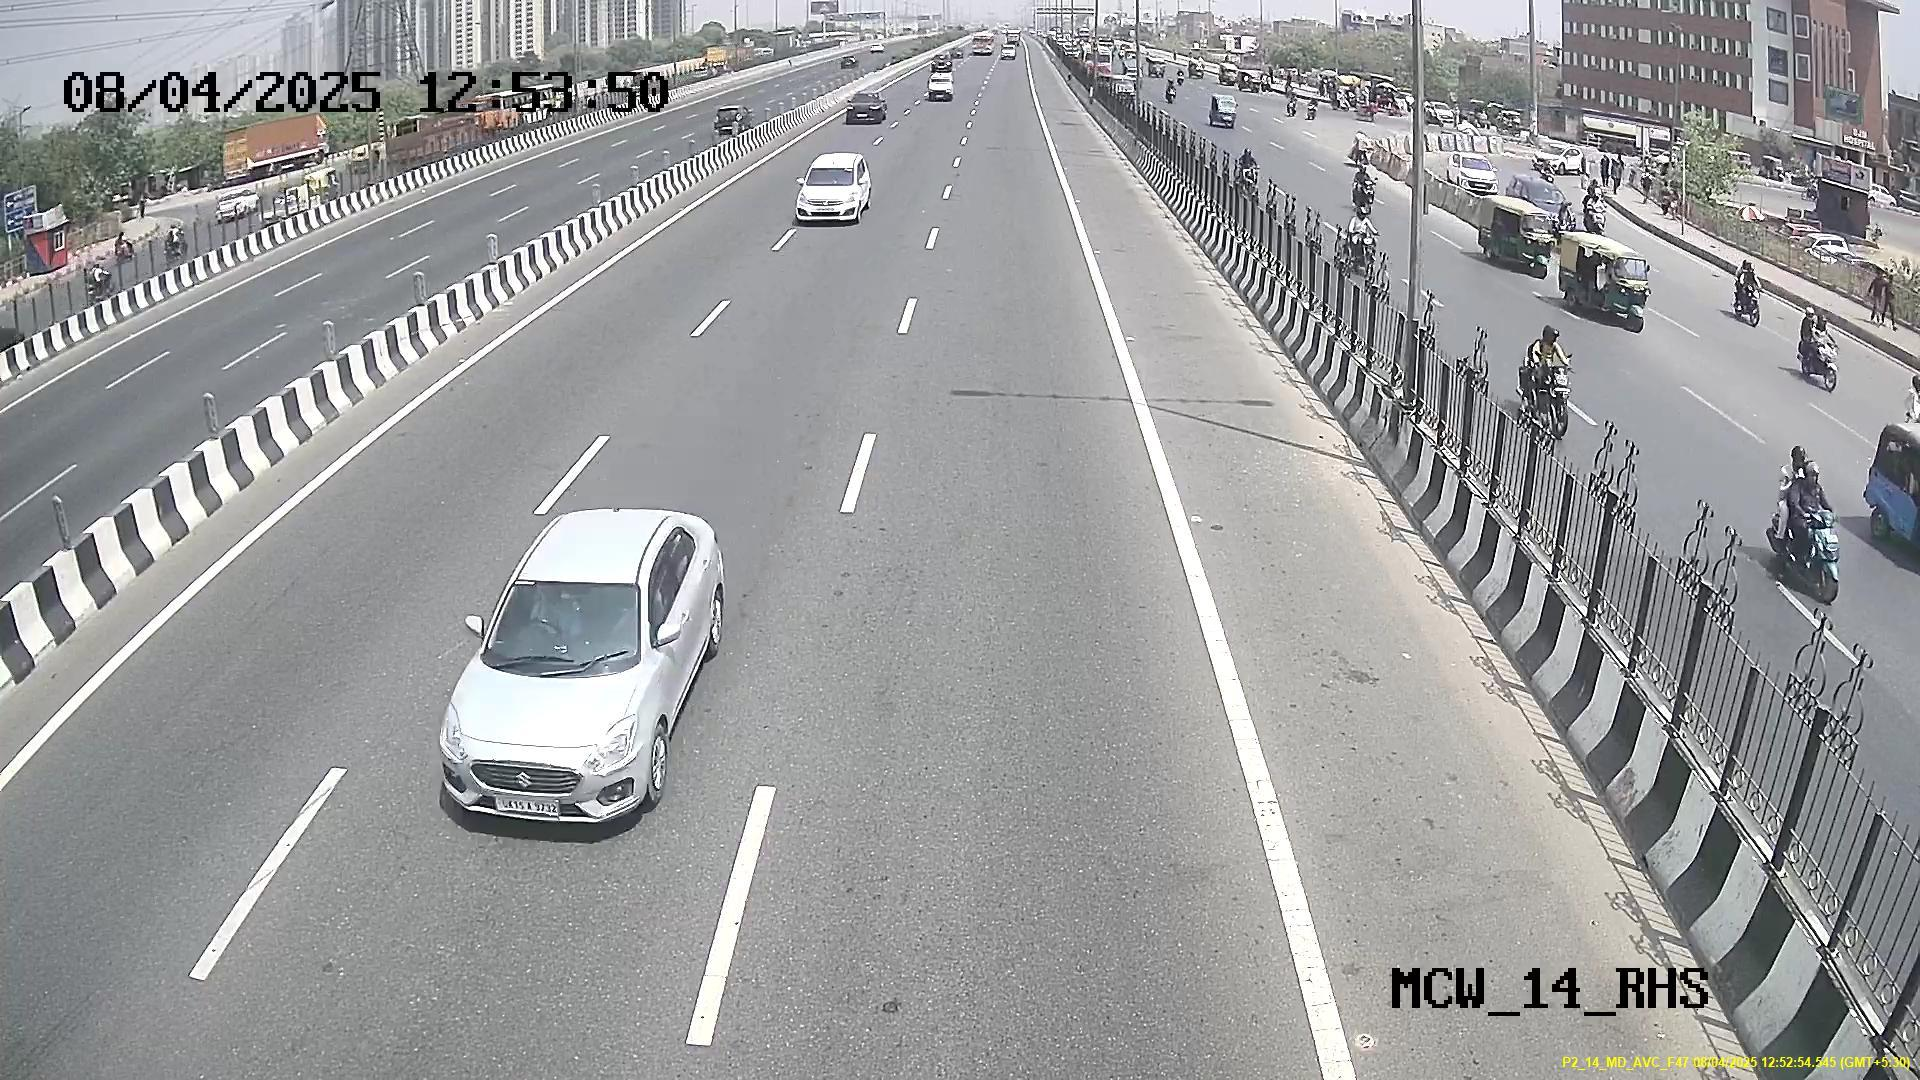car: (434, 555, 682, 828), (795, 156, 872, 228)
